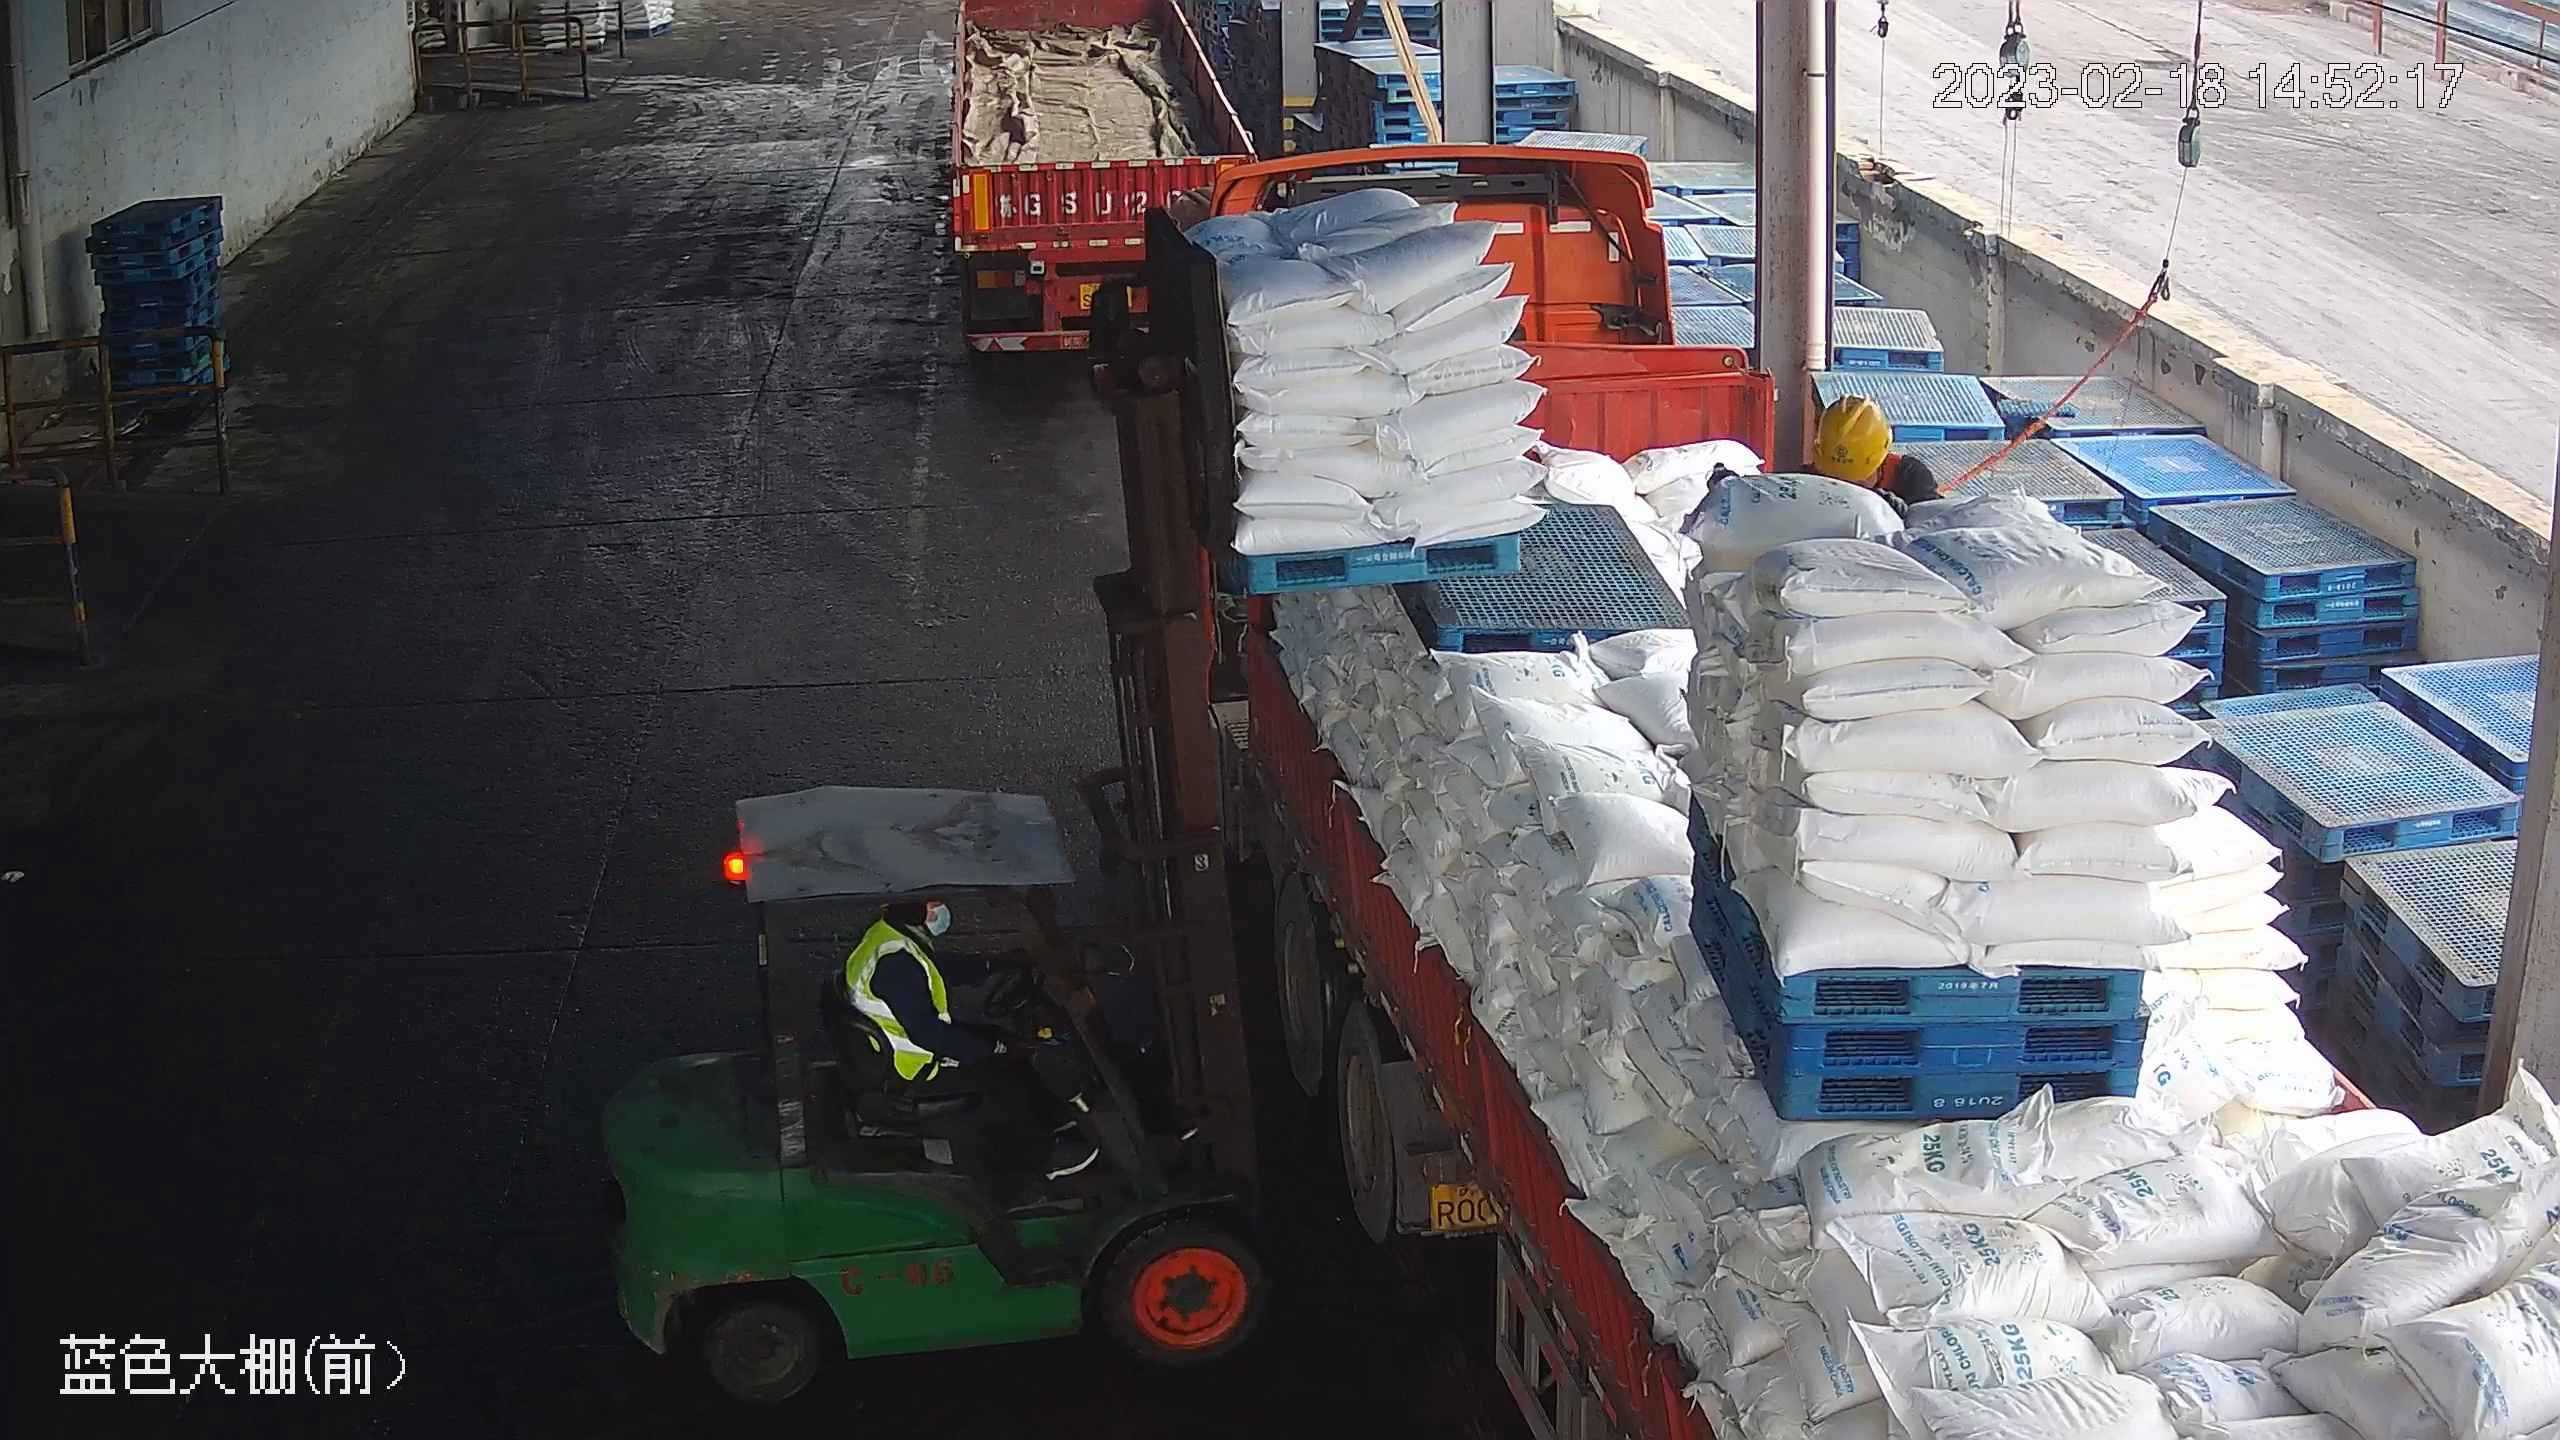helmet: (1812, 393, 1897, 480)
people: (846, 891, 1089, 1164)
truck: (1068, 159, 2552, 1440), (940, 4, 1292, 371)
